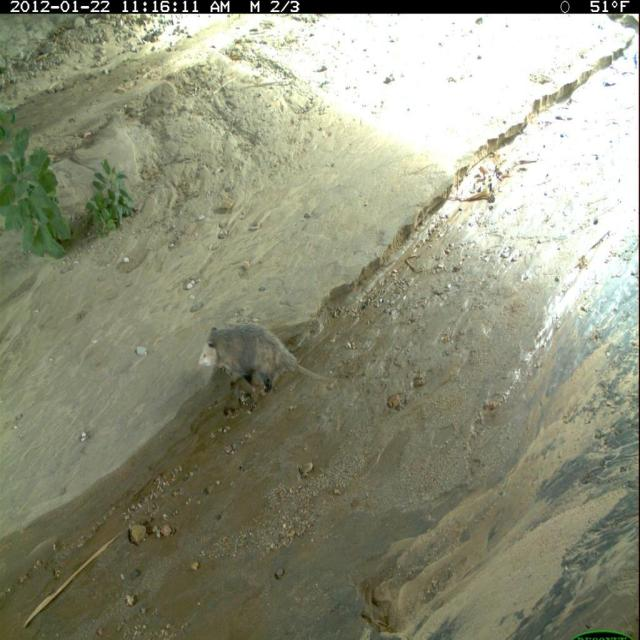opossum: (196, 319, 334, 402)
